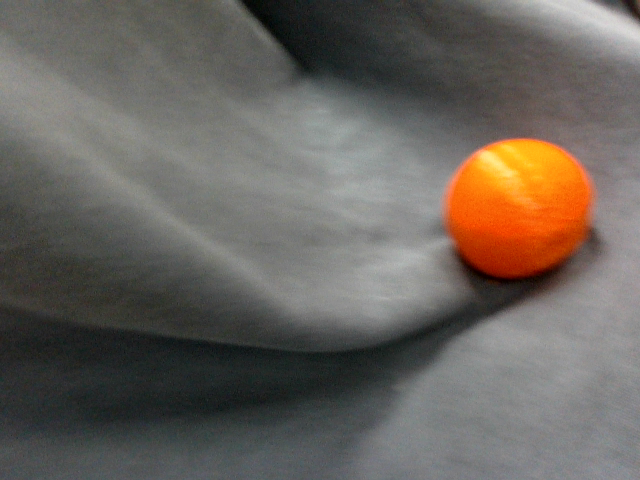orange: (421, 111, 618, 303)
